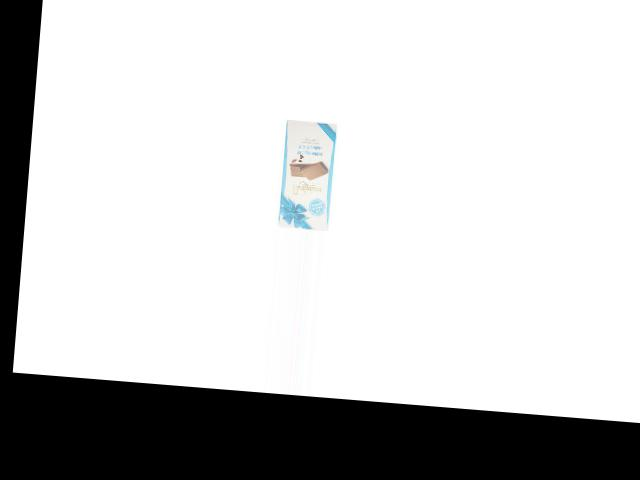chocolate: (270, 116, 341, 232)
